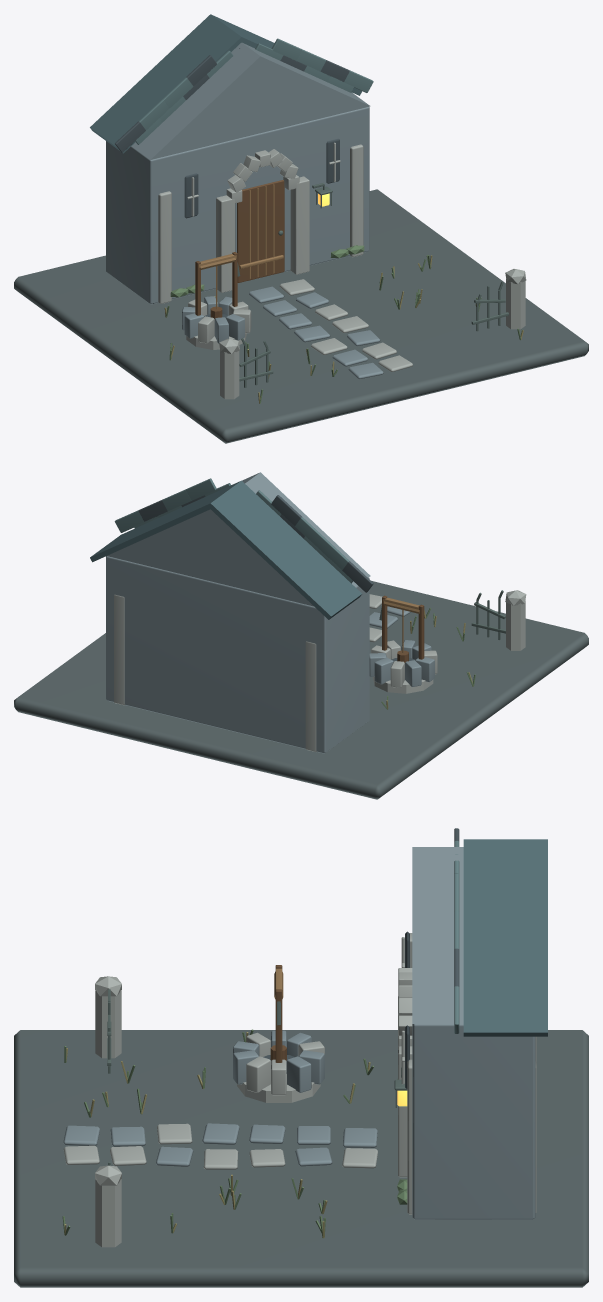
Rendered from asset.glb.
3 views of the same model, one above another, from view 1: azimuth 30°, elevation 25°; view 2: azimuth 150°, elevation 25°; view 3: azimuth 270°, elevation 25° (orthographic). The views are drawn at different scales.
Parts seen in each view (by area): view 1: Ground | island base, Chapel nave, Chapel gable, Steep slate roof, Double oak door, Portal right pier, Portal left pier, Chapel buttress, Chapel buttress.002, Gate stone post, Gate stone post.001, Steep slate roof.001; view 2: Ground | island base, Chapel nave, Chapel gable, Steep slate roof, Steep slate roof.001, Chapel buttress.001, Chapel buttress.003, Gate stone post, Well footing, Loose slate tile; view 3: Ground | island base, Chapel nave, Steep slate roof.001, Chapel gable, Gate stone post.001, Gate stone post, Chapel buttress.002, Portal right pier, Well footing, Well rim block.001, Well rim block.009, Worn path flagstone.006 (+13 smaller).
Boxes of the visible parts, box(x1,y1,x2,y2) form: Ground | island base: box(14, 189, 588, 443); Chapel nave: box(106, 107, 369, 304); Chapel gable: box(131, 42, 370, 159); Steep slate roof: box(90, 14, 243, 153); Double oak door: box(237, 180, 284, 282); Portal right pier: box(290, 176, 309, 274); Portal left pier: box(215, 195, 235, 292); Chapel buttress: box(158, 191, 171, 303); Chapel buttress.002: box(350, 144, 363, 257); Gate stone post: box(220, 350, 239, 399); Gate stone post.001: box(506, 279, 525, 329); Steep slate roof.001: box(211, 14, 361, 95); Ground | island base: box(14, 580, 588, 799); Chapel nave: box(106, 556, 369, 753); Chapel gable: box(107, 472, 370, 606); Steep slate roof: box(208, 480, 361, 619); Steep slate roof.001: box(90, 481, 240, 562); Chapel buttress.001: box(305, 641, 316, 751); Chapel buttress.003: box(114, 594, 125, 705); Gate stone post: box(506, 601, 525, 650); Well footing: box(372, 676, 433, 693); Loose slate tile: box(342, 561, 373, 592); Ground | island base: box(14, 1030, 588, 1287); Chapel nave: box(412, 1024, 535, 1219); Steep slate roof.001: box(463, 839, 547, 1036); Chapel gable: box(412, 847, 463, 1023); Gate stone post.001: box(95, 1179, 121, 1247); Gate stone post: box(95, 990, 121, 1058); Chapel buttress.002: box(407, 1059, 412, 1214); Portal right pier: box(398, 1046, 412, 1177); Well footing: box(237, 1074, 320, 1102); Well rim block.001: box(287, 1056, 311, 1092); Well rim block.009: box(246, 1056, 270, 1092); Worn path flagstone.006: box(202, 1123, 239, 1144).
Bounding box in the file's own units: 14 × 8.86 × 14.
